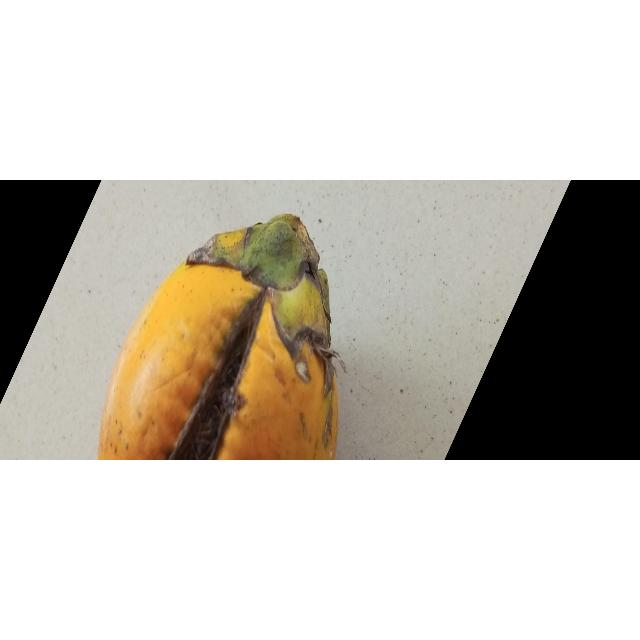damaged: (94, 215, 340, 461)
